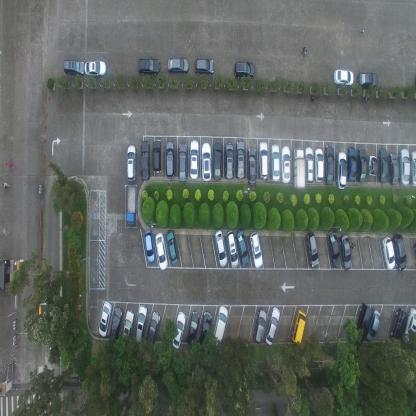car: (354, 303, 373, 344), (212, 304, 228, 350), (264, 306, 281, 346), (390, 308, 408, 344), (292, 308, 308, 346), (145, 309, 161, 347), (108, 304, 124, 342), (252, 307, 268, 344), (327, 228, 341, 270), (134, 303, 148, 345), (235, 228, 250, 267), (293, 146, 306, 190), (392, 233, 407, 271), (214, 228, 228, 268), (154, 232, 168, 272), (172, 310, 186, 349), (98, 300, 112, 339), (226, 228, 239, 269), (402, 307, 416, 345), (381, 235, 396, 270), (250, 229, 263, 269), (305, 231, 319, 268), (198, 312, 212, 348), (121, 309, 134, 347), (177, 139, 188, 183), (136, 56, 160, 76), (126, 184, 137, 227), (166, 230, 179, 266), (140, 139, 151, 181), (366, 308, 380, 341), (166, 56, 190, 75), (187, 309, 199, 346), (234, 60, 256, 80), (126, 143, 137, 183), (201, 141, 212, 181), (336, 150, 347, 190), (304, 145, 315, 184), (194, 56, 215, 76), (334, 67, 354, 88), (84, 58, 106, 77), (356, 71, 378, 90), (258, 141, 269, 179), (399, 148, 410, 186), (213, 140, 223, 181), (144, 229, 156, 263), (340, 233, 351, 270), (165, 138, 175, 178), (190, 139, 200, 179), (63, 57, 84, 76), (247, 147, 257, 186), (357, 146, 367, 184), (325, 143, 334, 185), (236, 139, 245, 180), (152, 138, 162, 174), (379, 148, 389, 184), (389, 150, 399, 186), (271, 143, 280, 182), (314, 147, 324, 182), (225, 142, 234, 180), (347, 146, 356, 182), (282, 145, 290, 183), (368, 152, 378, 178), (410, 150, 416, 187)
